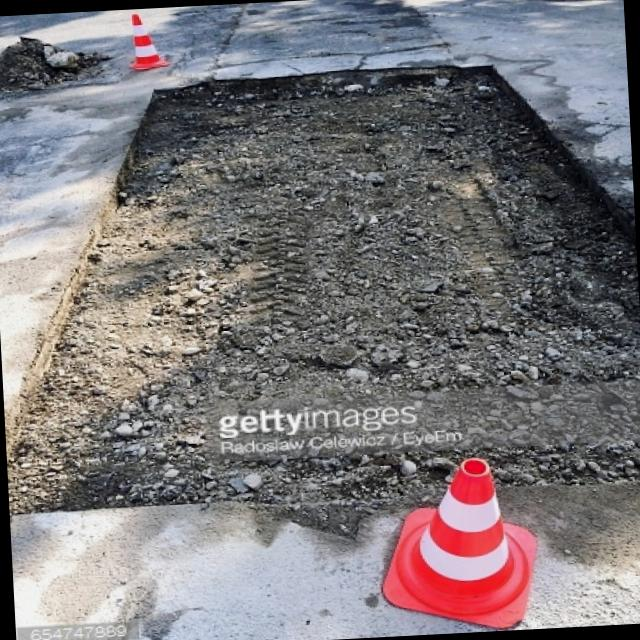cone: (324, 400, 566, 636), (104, 12, 198, 81)
